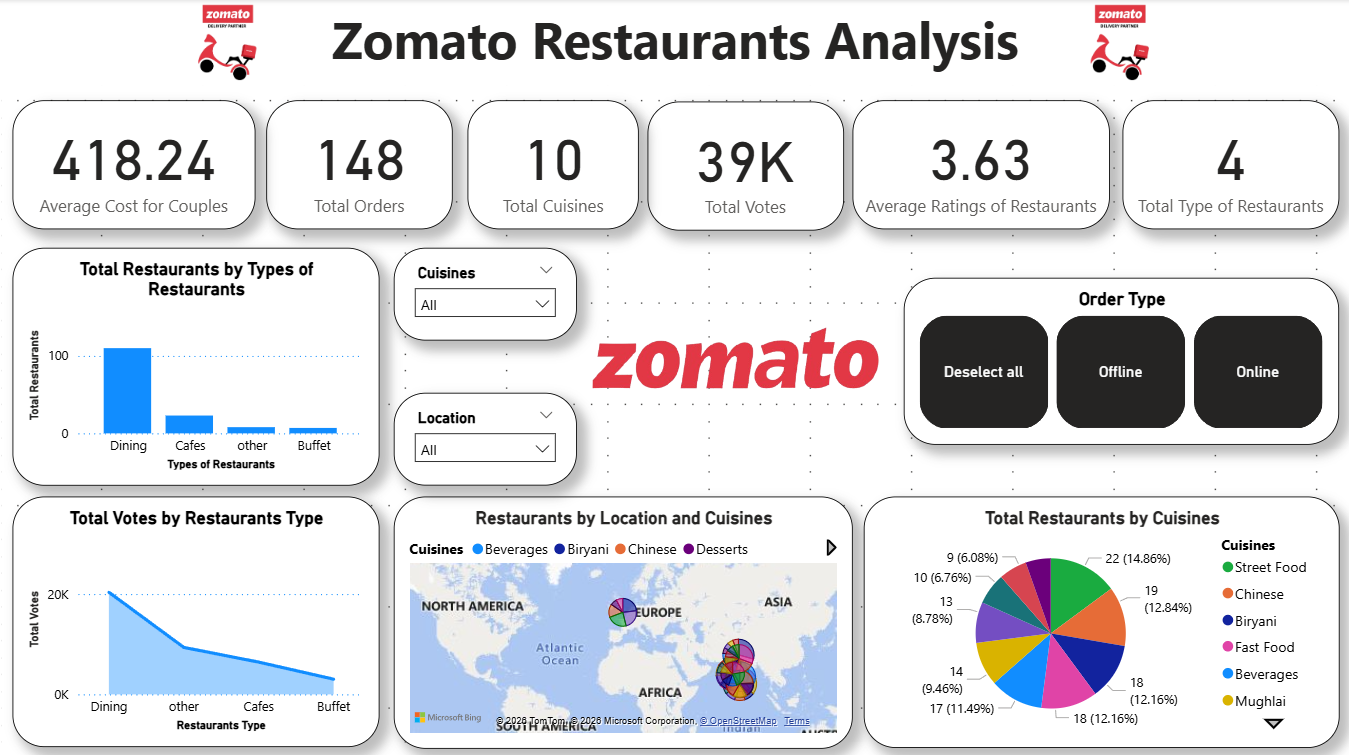

The page's visual inventory and layout, read from the dashboard file:
{"tool":"powerbi","page":{"name":"Page 1","canvas":[1280,720],"ordinal":0},"visuals":[{"type":"card","fields":{"Values":["Sum(zomato_new.votes)"]},"box":[614,97.7,186,122.1],"z":0},{"type":"card","fields":{"Values":["CountNonNull(zomato_new.order_type)"]},"box":[252.3,96.5,176.7,122.1],"z":1000},{"type":"card","fields":{"Values":["Avg(zomato_new.rate)"]},"box":[808.1,96.5,244.2,122.1],"z":2000},{"type":"card","fields":{"Values":["Avg(zomato_new.approx_cost(for two people))"]},"box":[11.6,96.5,230.2,122.1],"z":3000},{"type":"card","fields":{"Values":["Count(zomato_new.cuisines)"]},"box":[443,96.5,162.8,122.1],"z":4000},{"type":"lineStackedColumnComboChart","fields":{"Category":["zomato_new.listed_in(type)"],"Y":["CountNonNull(zomato_new.listed_in(type))"]},"box":[11.6,236,347.7,225.6],"z":5000},{"type":"stackedAreaChart","fields":{"Category":["zomato_new.listed_in(type)"],"Y":["Sum(zomato_new.votes)"]},"box":[11.6,472.1,347.7,237.2],"z":6000},{"type":"slicer","fields":{"Values":["zomato_new.cuisines1"]},"box":[373.3,236,173.3,88.4],"z":7000},{"type":"map","title":"Restaurants by Location and Cuisines","fields":{"Category":["zomato_new.location"],"Series":["zomato_new.cuisines"],"Size":["CountNonNull(zomato_new.listed_in(type))"]},"box":[373.3,472.1,434.9,239.5],"z":8000},{"type":"pieChart","fields":{"Category":["zomato_new.cuisines1"],"Y":["CountNonNull(zomato_new.listed_in(type))1"]},"box":[818.6,472.1,451.2,238.4],"z":9000},{"type":"slicer","fields":{"Values":["zomato_new.location"]},"box":[373.3,373.3,173.3,88.4],"z":10000},{"type":"advancedSlicerVisual","fields":{"Values":["zomato_new.order_type"]},"box":[857,264,412.8,158.1],"z":11000},{"type":"image","box":[557,289.5,281.4,103.5],"z":12000},{"type":"card","fields":{"Values":["Count(zomato_new.listed_in(type))"]},"box":[1064,96.5,205.8,122.1],"z":13000},{"type":"textbox","box":[0,0,1280.2,82.6],"z":14000},{"type":"image","box":[165.1,0,100,82.6],"z":15000},{"type":"image","box":[1010.5,0,100,82.6],"z":16000}]}

Visuals, with their boxes in screenshot pixels (x1, y1, x2, y2), scaled from the page's 1280x720 canvas onto the 1349x755 screenshot:
card - Sum(zomato_new.votes): box=[647, 102, 843, 230]
card - CountNonNull(zomato_new.order_type): box=[266, 101, 452, 229]
card - Avg(zomato_new.rate): box=[852, 101, 1109, 229]
card - Avg(zomato_new.approx_cost(for two people)): box=[12, 101, 255, 229]
card - Count(zomato_new.cuisines): box=[467, 101, 638, 229]
lineStackedColumnComboChart - zomato_new.listed_in(type) x CountNonNull(zomato_new.listed_in(type)): box=[12, 247, 379, 484]
stackedAreaChart - zomato_new.listed_in(type) x Sum(zomato_new.votes): box=[12, 495, 379, 744]
slicer - zomato_new.cuisines1: box=[393, 247, 576, 340]
"Restaurants by Location and Cuisines" map: box=[393, 495, 852, 746]
pieChart - zomato_new.cuisines1 x CountNonNull(zomato_new.listed_in(type))1: box=[863, 495, 1338, 745]
slicer - zomato_new.location: box=[393, 391, 576, 484]
advancedSlicerVisual - zomato_new.order_type: box=[903, 277, 1338, 443]
image: box=[587, 304, 884, 412]
card - Count(zomato_new.listed_in(type)): box=[1121, 101, 1338, 229]
textbox: box=[0, 0, 1348, 87]
image: box=[174, 0, 279, 87]
image: box=[1065, 0, 1170, 87]
